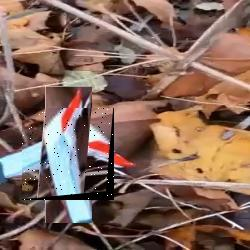plastic: (23, 108, 114, 200)
